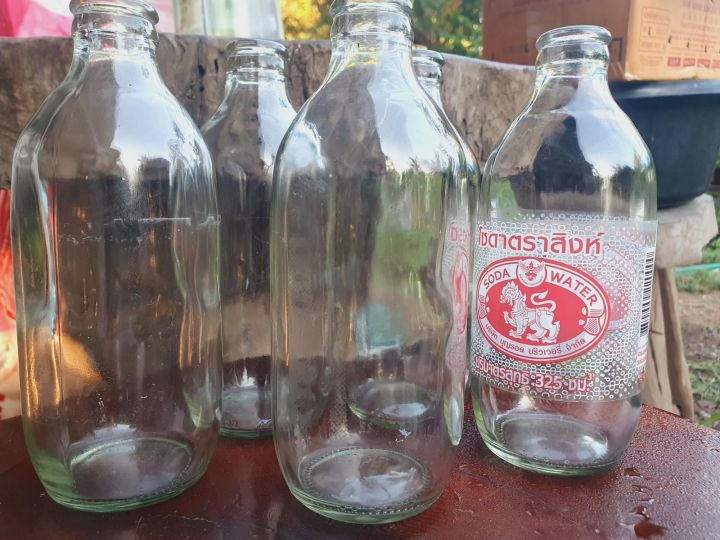glass_bottle: (10, 1, 663, 530)
